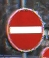No entry: (6, 6, 44, 53)
